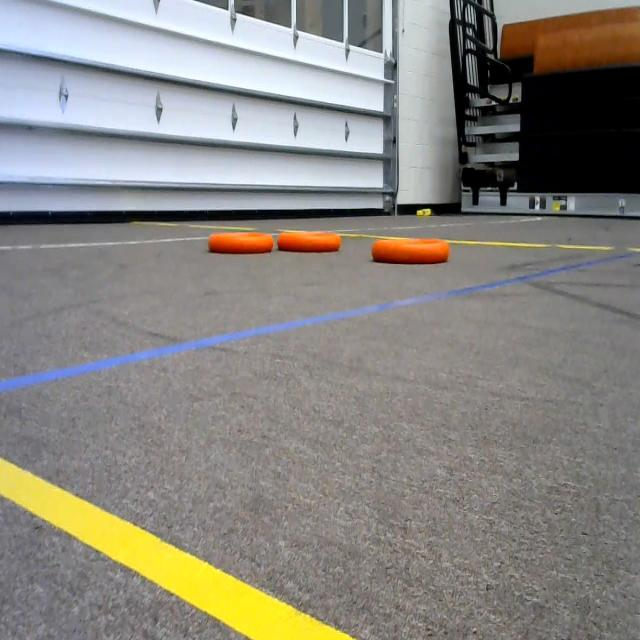note: (370, 227, 460, 268), (275, 218, 347, 255), (202, 223, 282, 256)
